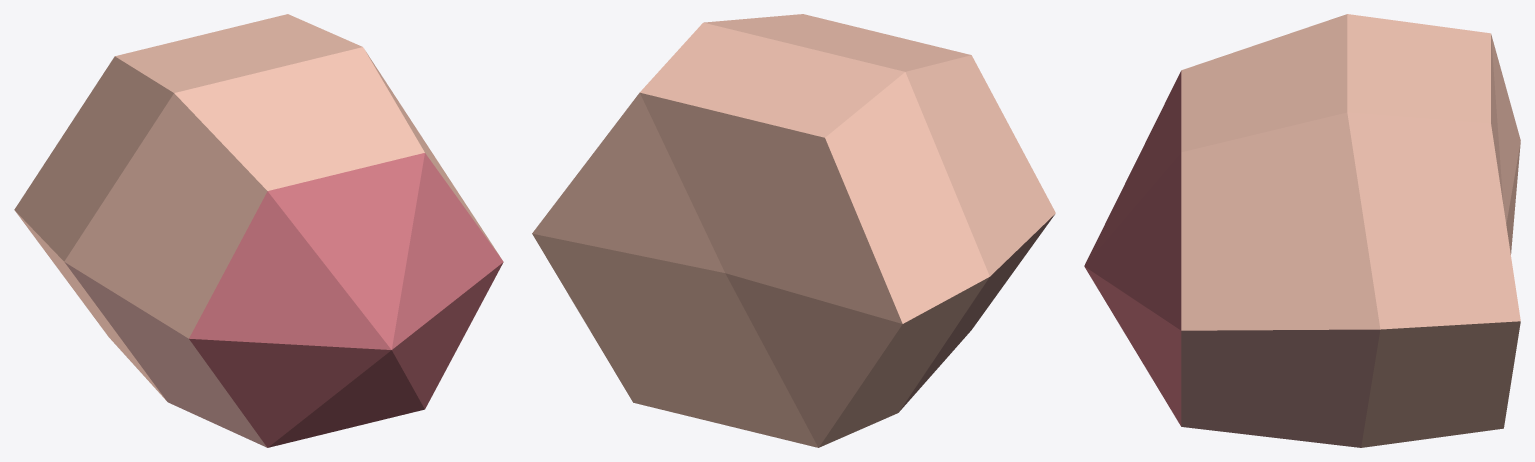
The model's file is nose_gn_button.glb.
3 views of the same model, side by side, from view 1: azimuth 30°, elevation 25°; view 2: azimuth 150°, elevation 25°; view 3: azimuth 270°, elevation 25° (orthographic). The views are drawn at different scales.
Visible parts, largest first — view 1: Snout; view 2: Snout; view 3: Snout.
Boxes of the visible parts, <box> form: Snout: <box>14,14,503,447</box>; Snout: <box>532,14,1055,447</box>; Snout: <box>1084,14,1520,447</box>.
Bounding box in the file's own units: 0.024 × 0.0191 × 0.0225.
1 material, 1 textured.
